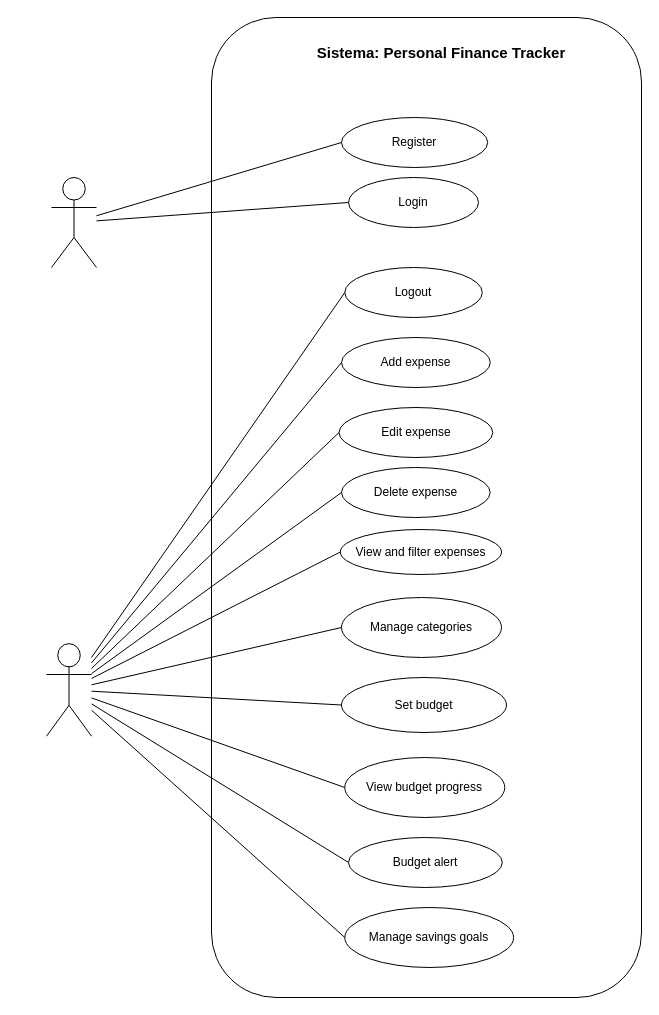
Some shapes in this 659 by 1015 pixel diagram are drawn without their labels. Each missing label, with the centre of its shape:
"Authenticated user" belongs at pixel 69 689.
"Unauthenticated user" belongs at pixel 73 222.
